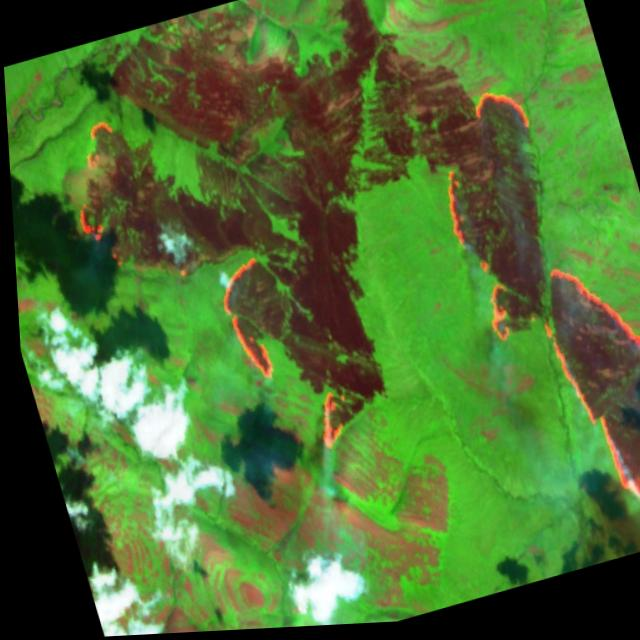fire: (406, 59, 640, 588), (193, 228, 367, 475), (44, 107, 158, 270)
